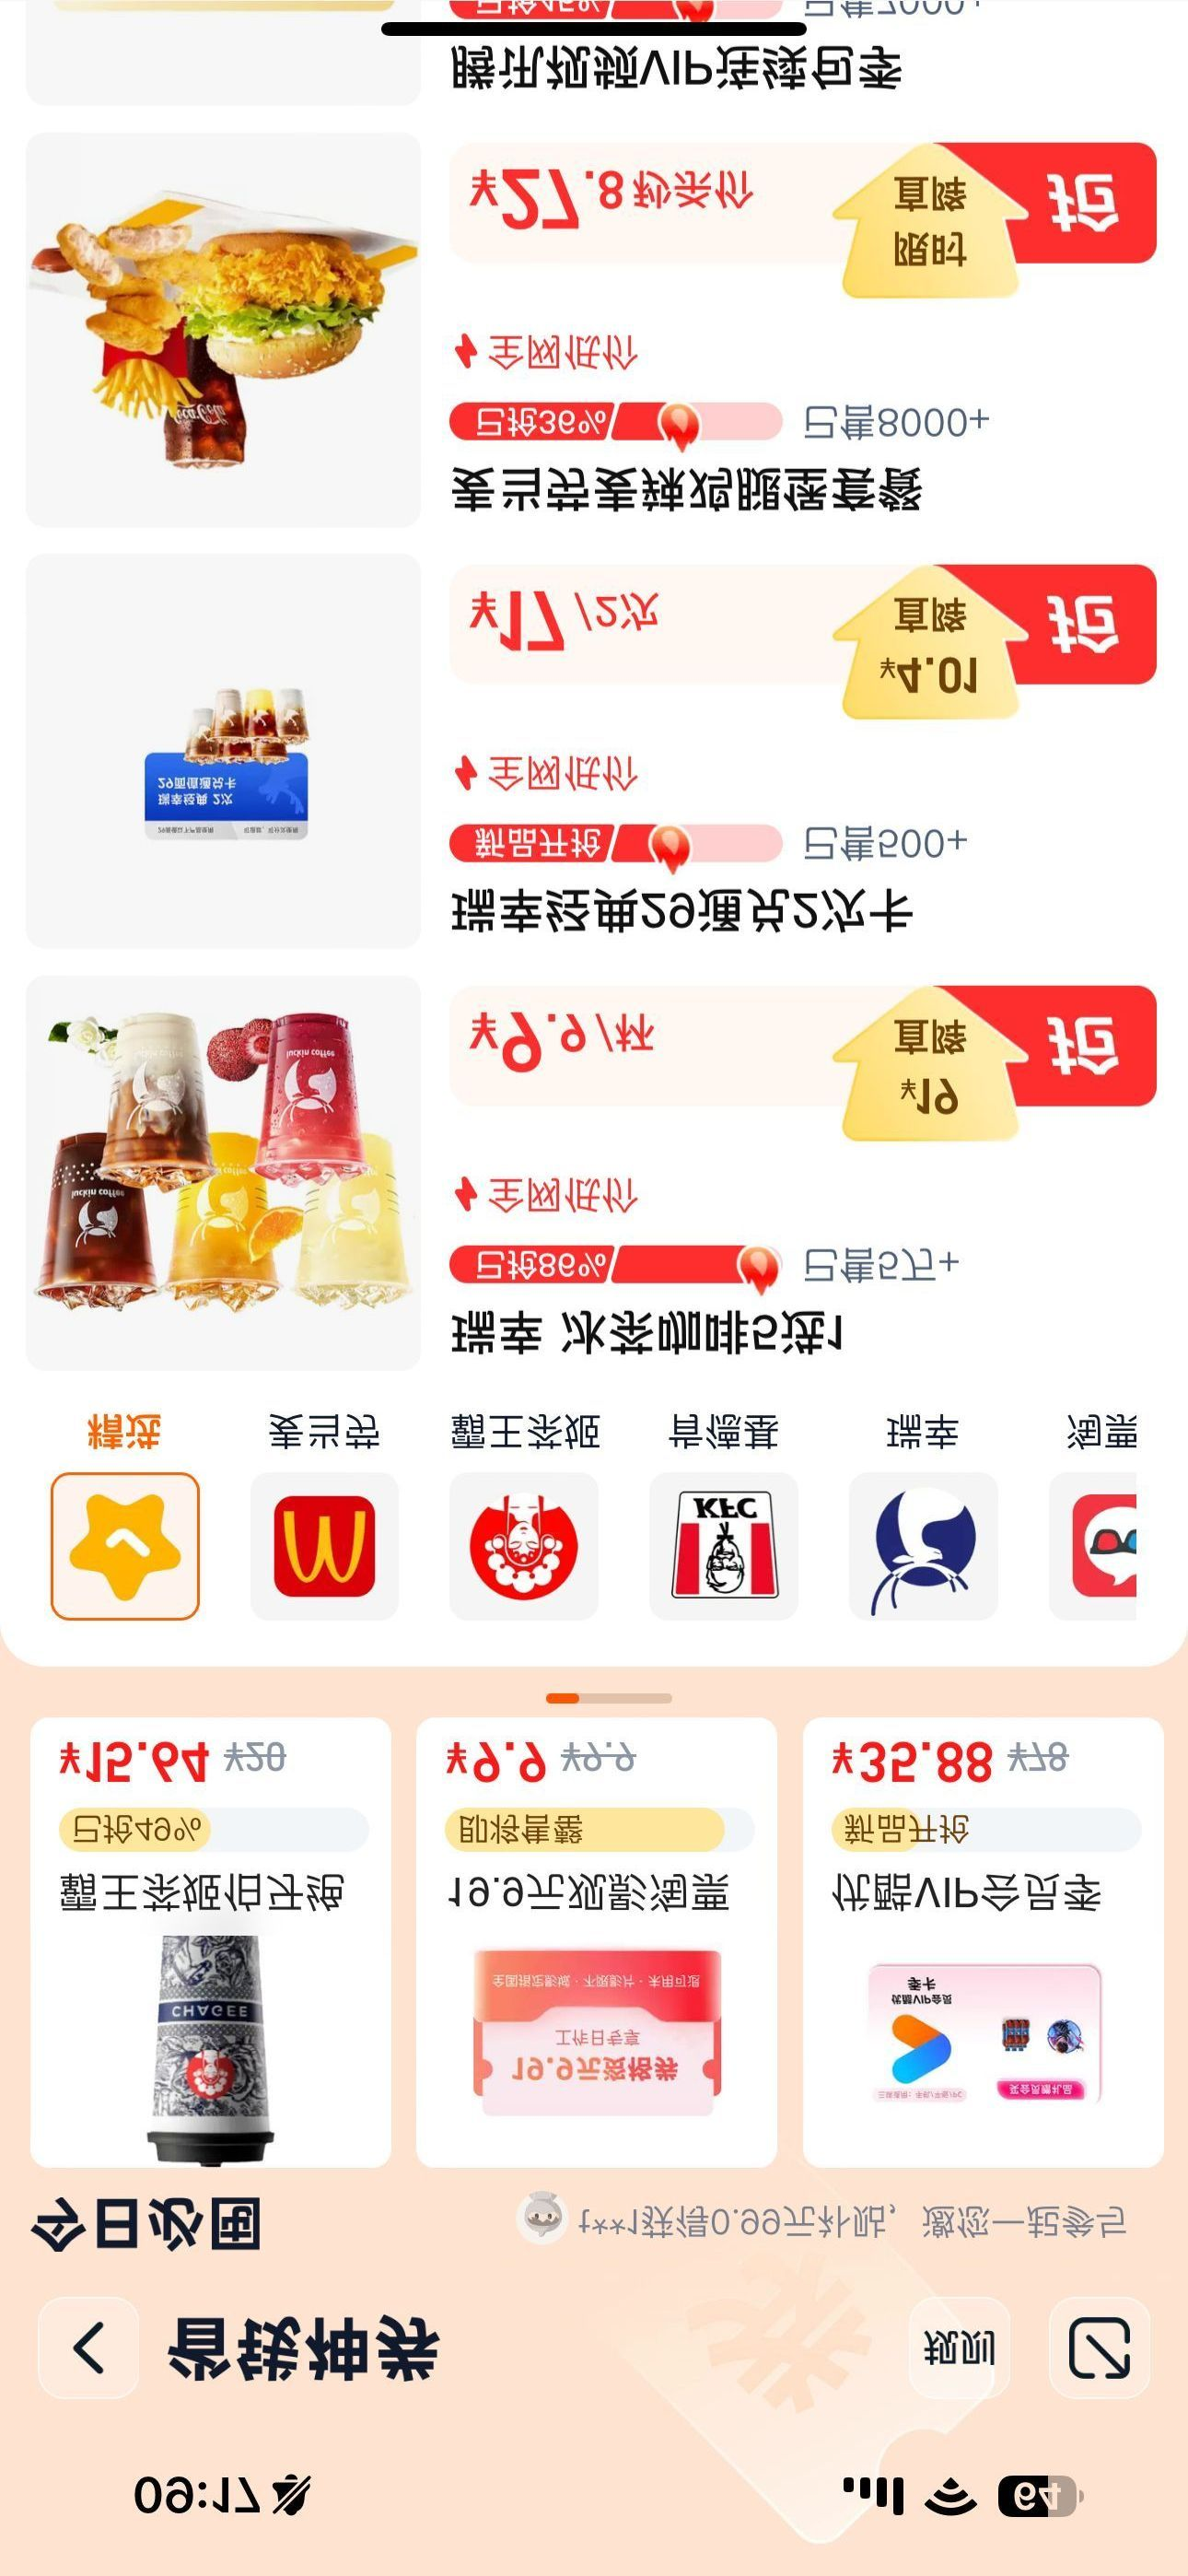item: (5, 956, 1183, 1388), (5, 115, 1188, 534), (8, 542, 1188, 943)
op_bar: (5, 2264, 1167, 2435)
seckill: (3, 1690, 1178, 2203)
